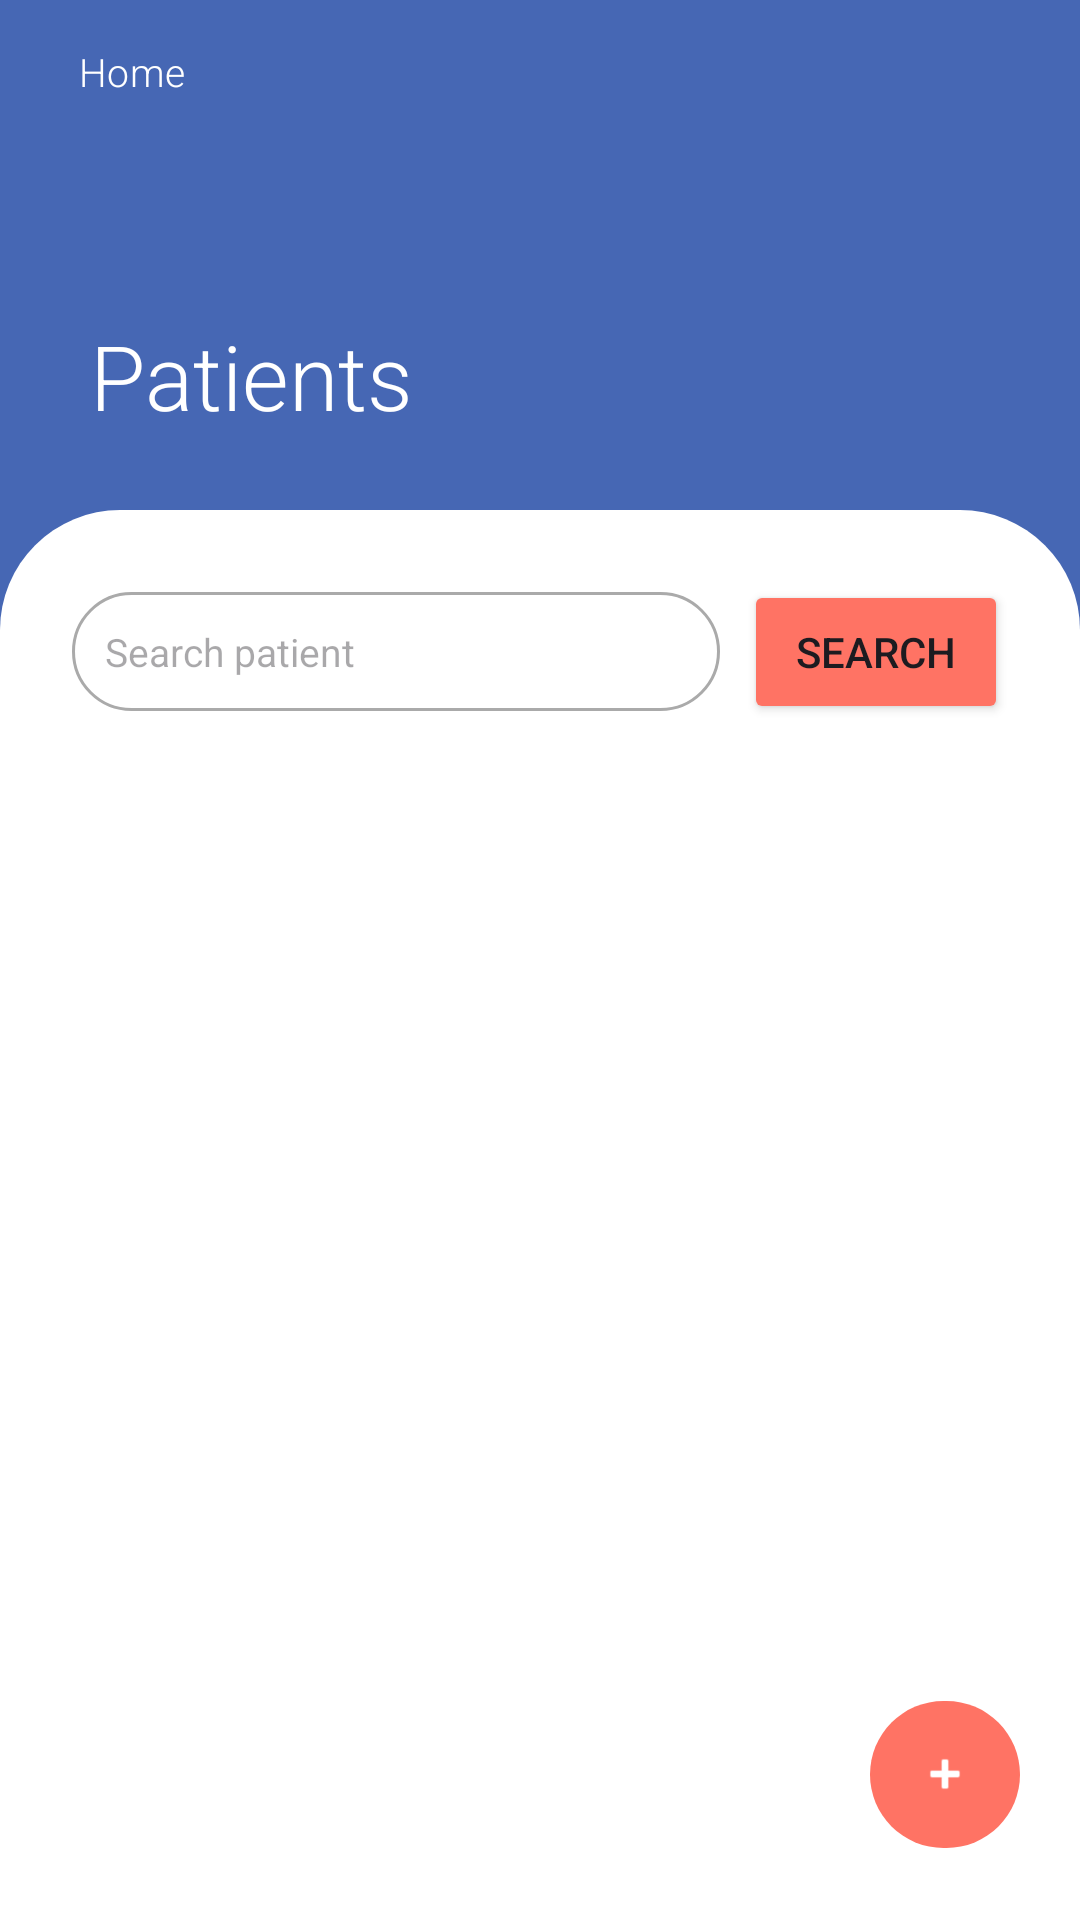

Icon click points for this 1080×1920 phone screenshot, format [x,y]:
add: [945,1774]
